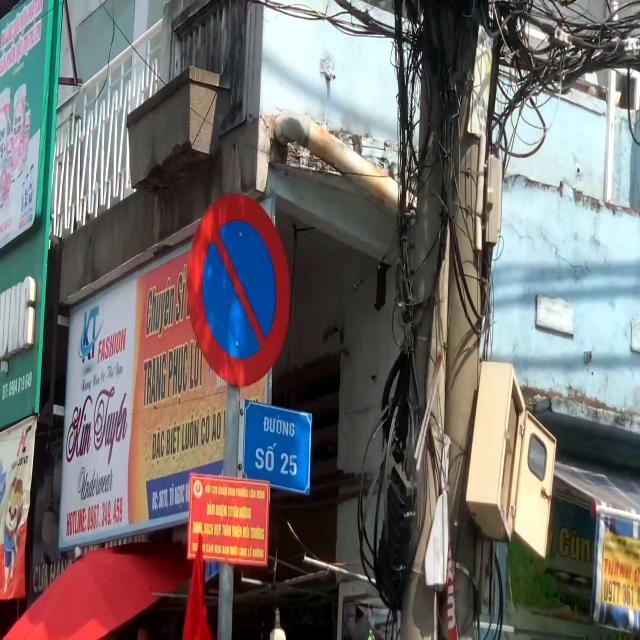P.131a: (182, 189, 295, 386)
